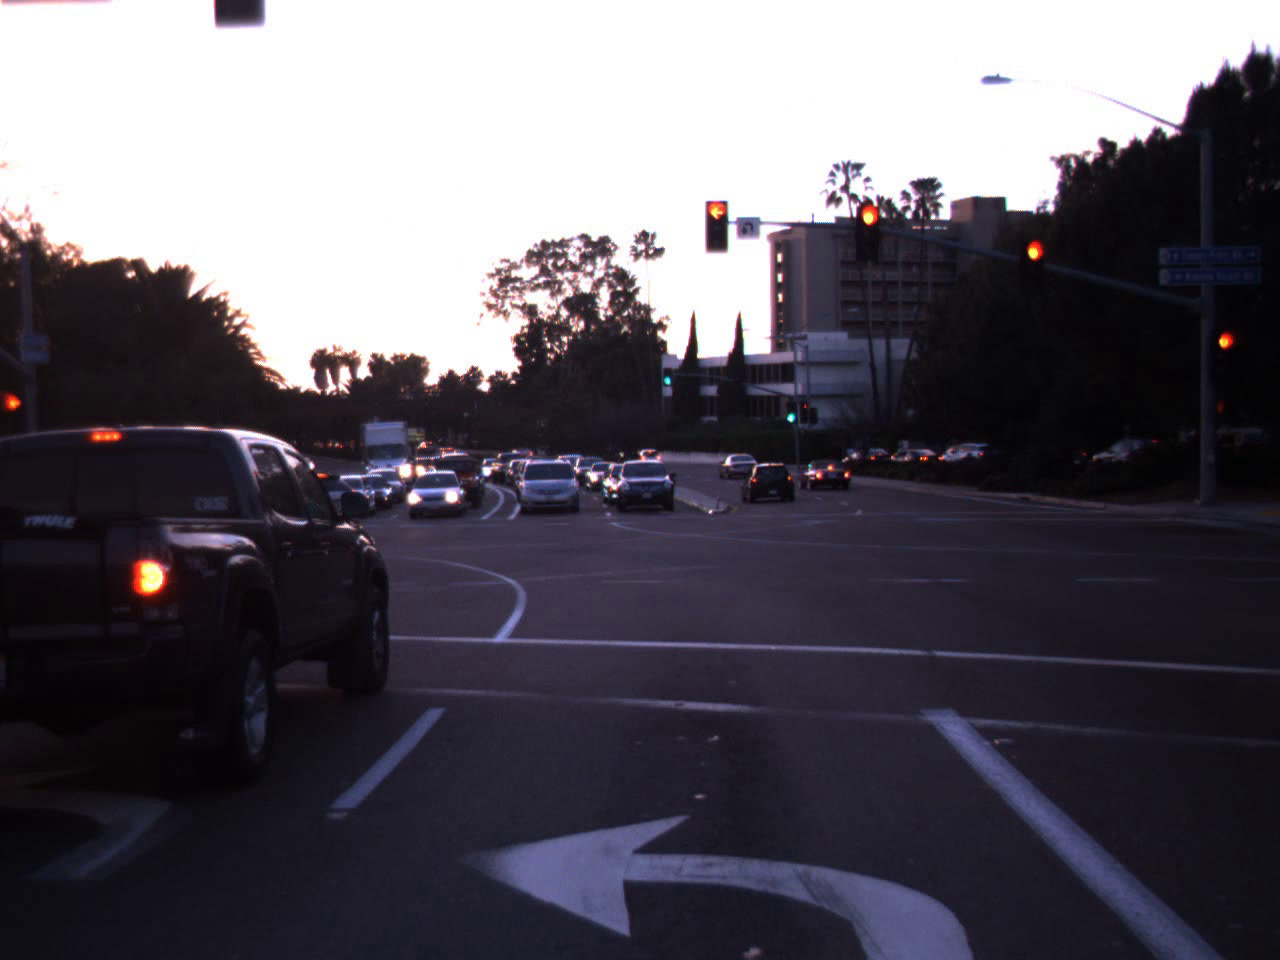go: (782, 389, 800, 424), (660, 357, 675, 387)
stop: (693, 193, 741, 269), (849, 196, 891, 281), (1202, 325, 1247, 392), (1017, 236, 1053, 308), (0, 390, 34, 444)
